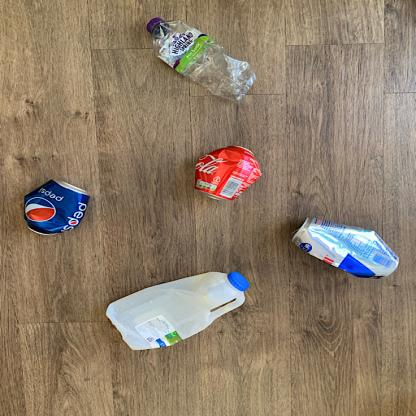trash: (109, 268, 251, 356), (145, 18, 260, 103), (290, 214, 400, 281), (21, 177, 93, 238), (193, 145, 268, 203)
